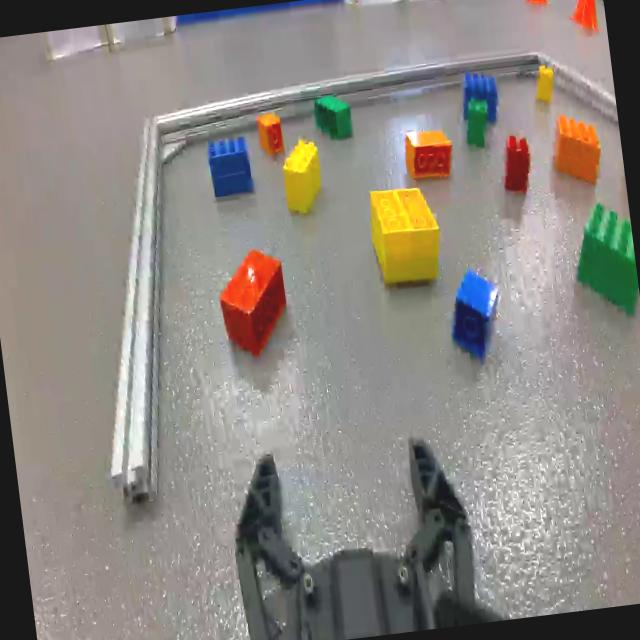block: (362, 182, 444, 298), (280, 136, 326, 212), (532, 62, 556, 106)
blue: (443, 264, 507, 366), (204, 132, 256, 202), (461, 70, 498, 120)
cone: (565, 0, 601, 35), (521, 0, 550, 9)
green: (566, 195, 640, 325), (462, 100, 490, 147)
metal barrier: (64, 39, 640, 510)
orange: (549, 110, 604, 192), (402, 124, 454, 180), (313, 91, 353, 146), (256, 112, 284, 156)
red goal: (215, 243, 291, 359), (498, 132, 532, 194)
storage cube: (43, 24, 113, 66), (110, 16, 177, 46), (344, 0, 401, 14), (400, 0, 450, 9)
